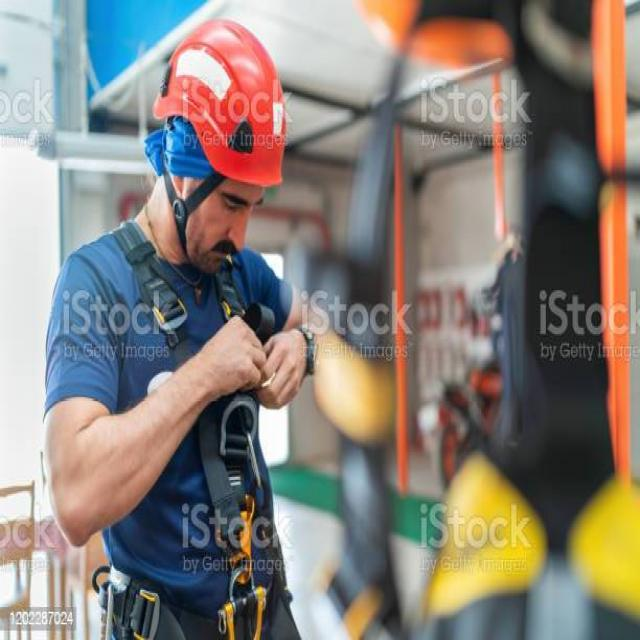belt: (90, 204, 291, 640)
